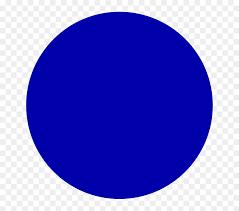blue_circle: (24, 10, 214, 199)
